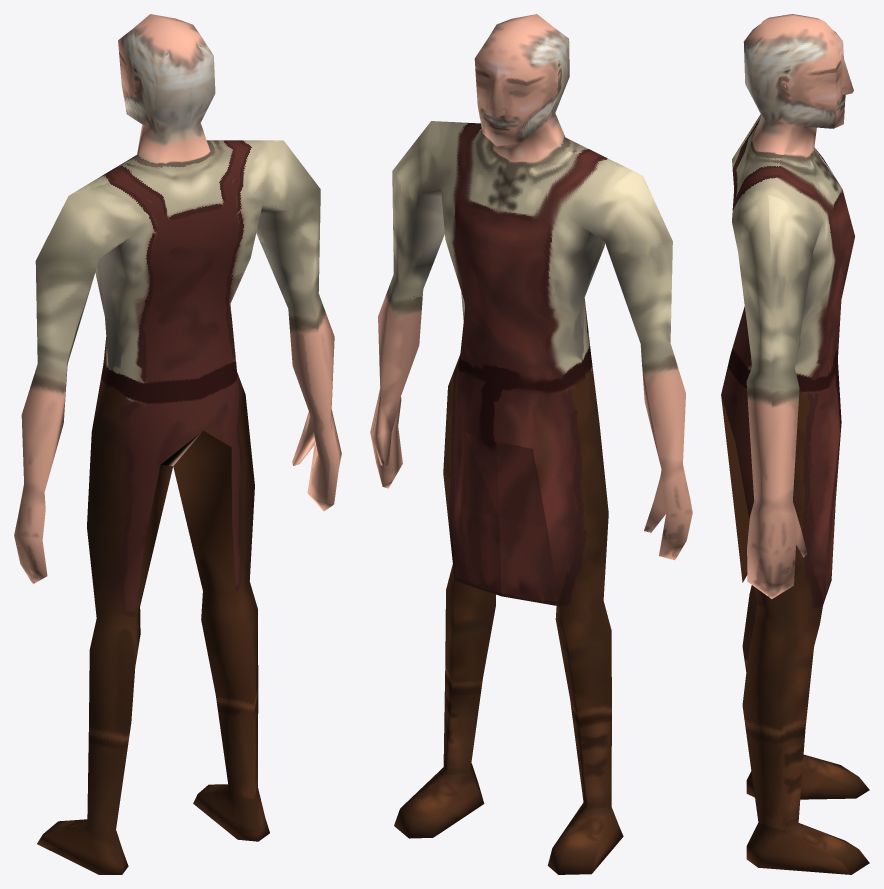
The model's file is bartender.glb.
3 views of the same model, side by side, from view 1: azimuth 30°, elevation 25°; view 2: azimuth 150°, elevation 25°; view 3: azimuth 270°, elevation 25° (orthographic).
Visible parts, largest first — view 1: Bartender2; view 2: Bartender2; view 3: Bartender2.
Part boxes in pixels (x1,y1,x2,y2): Bartender2: [14, 14, 341, 874]; Bartender2: [370, 14, 692, 874]; Bartender2: [721, 14, 869, 874].
Size of the model in its own units: 0.7552 by 1.81 by 0.301.
1 material, 1 textured.
